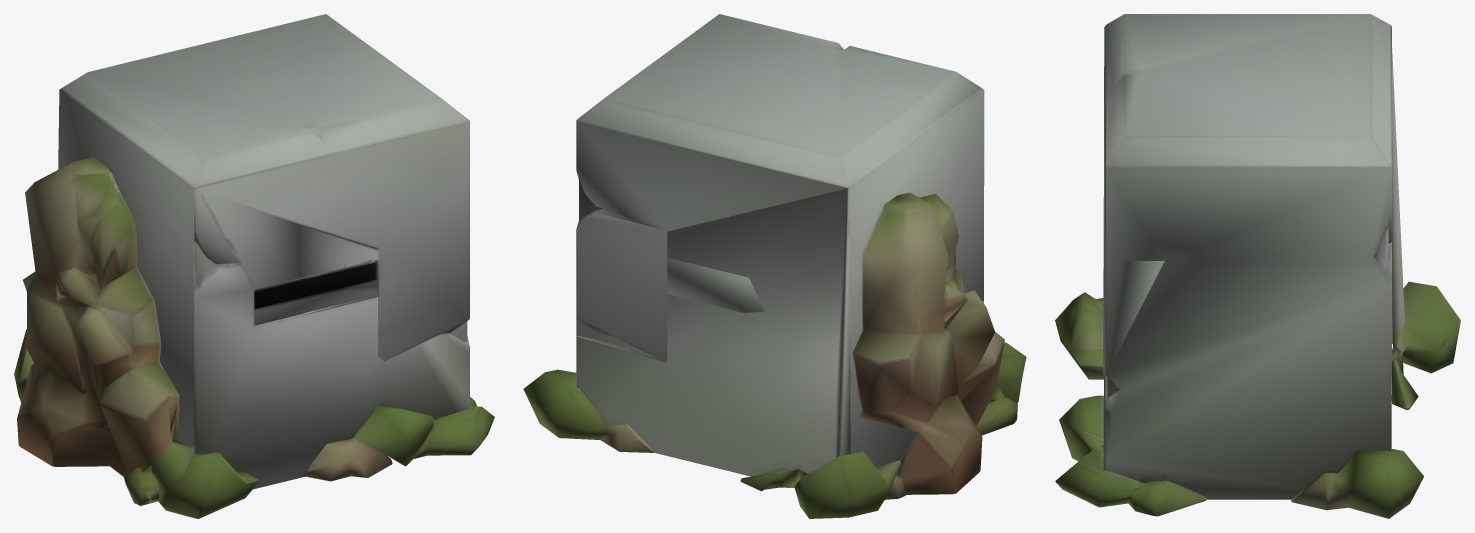
3 renders of one model, left to right at view 1: azimuth 30°, elevation 25°; view 2: azimuth 150°, elevation 25°; view 3: azimuth 270°, elevation 25°, orthographic. The views are drawn at different scales.
Parts seen in each view (by area): view 1: material; view 2: material; view 3: material.
Part boxes in pixels (x1=…): material: x1=14, y1=14, x2=494, y2=518; material: x1=523, y1=14, x2=1026, y2=518; material: x1=1055, y1=14, x2=1460, y2=518.
Size of the model in its own units: 1.9 by 1.51 by 1.58.
Materials: 1 (1 with a texture image).
